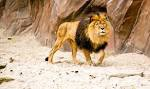lion: (48, 13, 116, 65)
